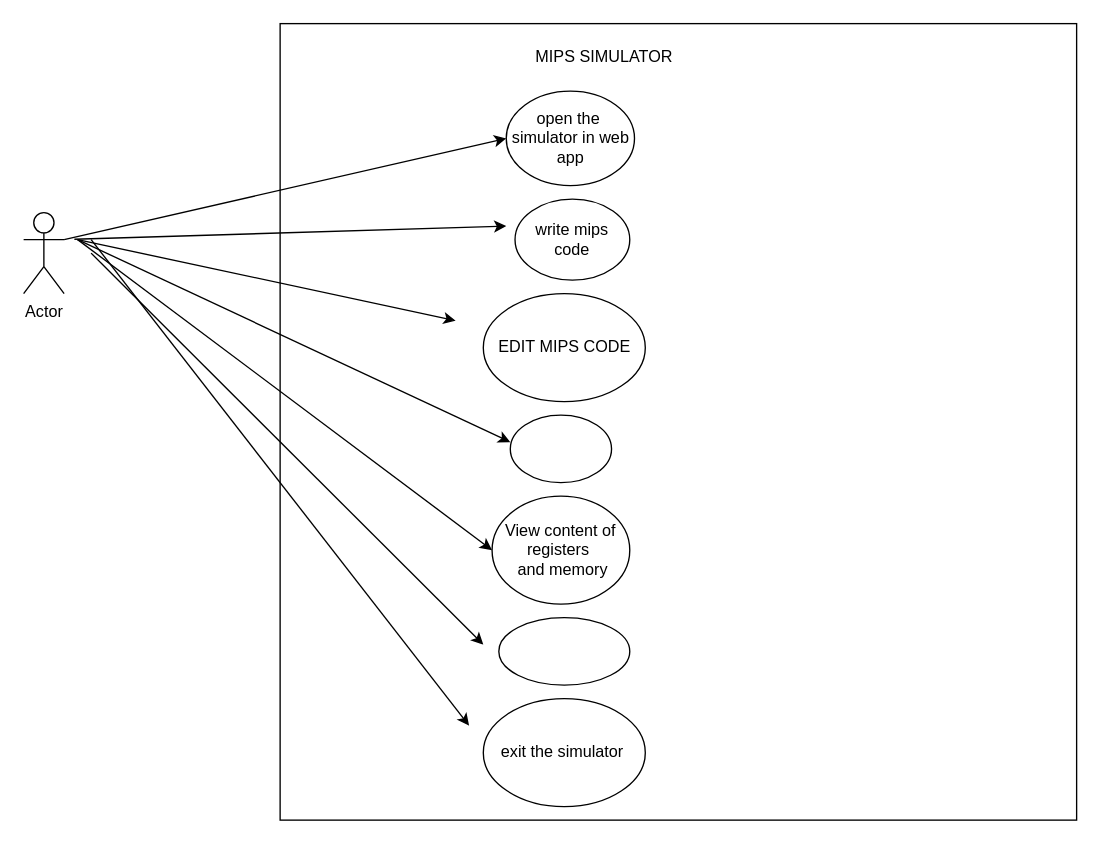
The diagram is 1100 pixels wide and 844 high, and some of its shapes have lost their labels. The shapes that lost their labels are listed below. From the top down, each one's box as (x1, y1, x2, y2) in pixels, then its label:
(509, 414, 612, 483): RUN THE SIMULATOR
(497, 616, 630, 685): view the console
